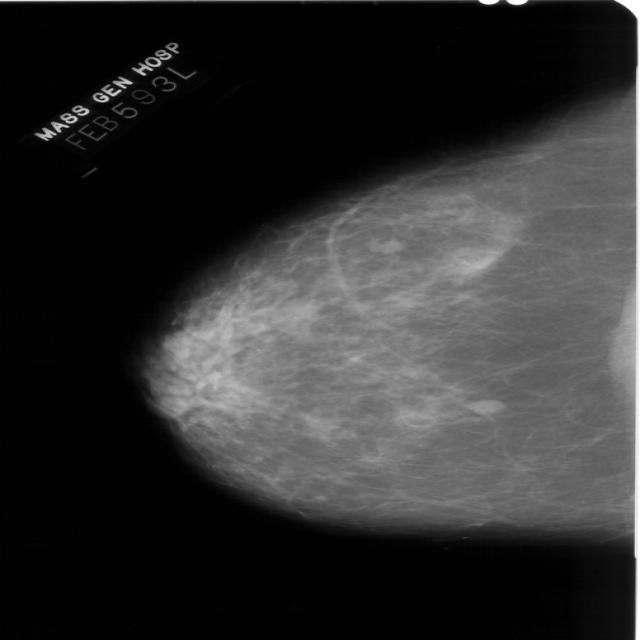tumour: (465, 398, 504, 414)
